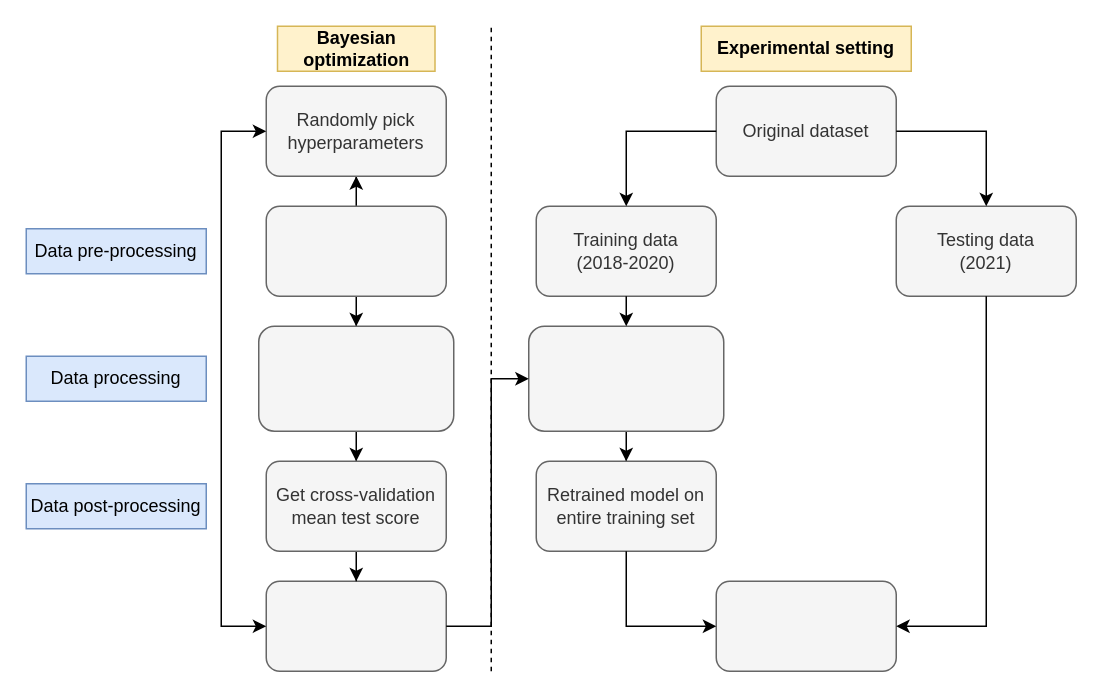
The diagram is 1103 pixels wide and 699 high, and some of its shapes have lost their labels. Each missing label, with the box of its shape:
Feature scaling (Robust scaling): (265, 205, 446, 296)
Final evaluation: (715, 580, 896, 671)
Model/algorithm fitting parameters/rules estimation: (257, 325, 454, 431)
Optimal model/algorithm configuration: (527, 325, 724, 431)
Sequentially update hyperparameters search space: (265, 580, 446, 671)
